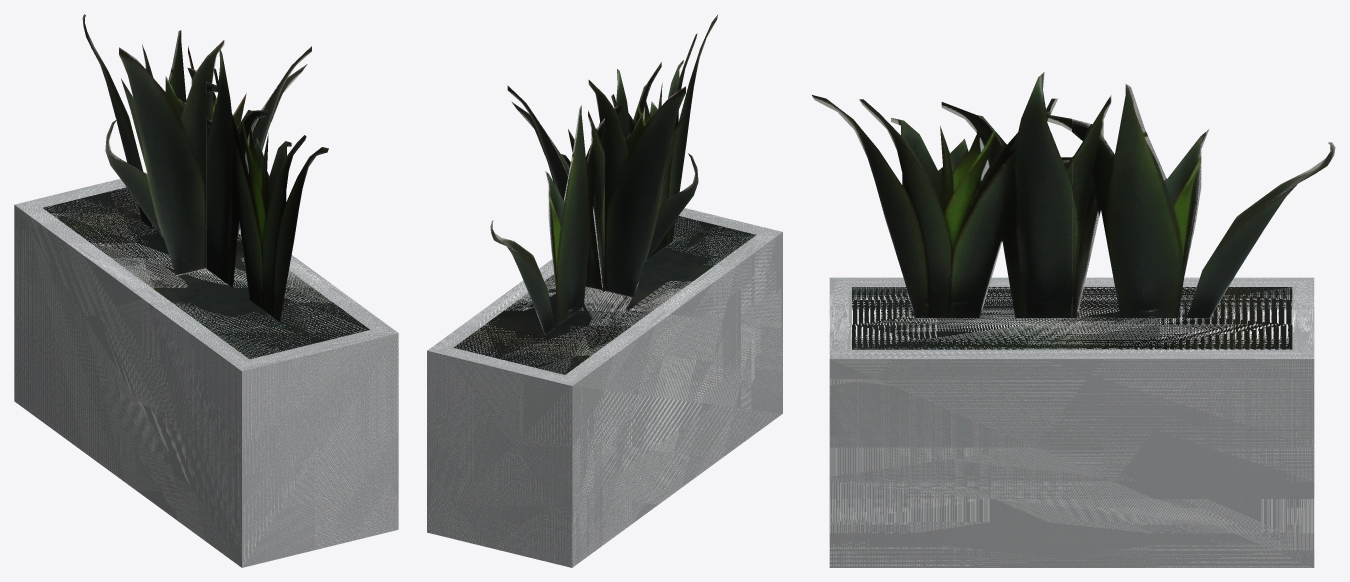
File: plant_pot_white.dae
3 views of the same model, side by side, from view 1: azimuth 30°, elevation 25°; view 2: azimuth 150°, elevation 25°; view 3: azimuth 270°, elevation 25° (orthographic). The views are drawn at different scales.
Parts seen in each view (by area): view 1: SketchUp (×5); view 2: SketchUp (×5); view 3: SketchUp (×4).
Boxes of the visible parts, <box> form: SketchUp (×5): <box>14,14,398,567</box>; SketchUp (×5): <box>427,15,782,567</box>; SketchUp (×4): <box>812,72,1335,567</box>.
Size of the model in its own units: 0.1149 by 0.2375 by 0.2339.
7 materials, 6 textured.
